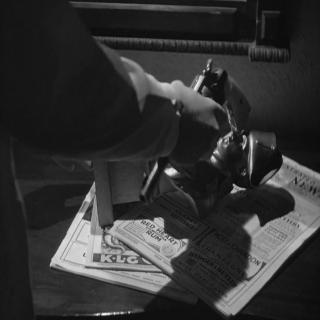gun: (136, 50, 268, 226)
